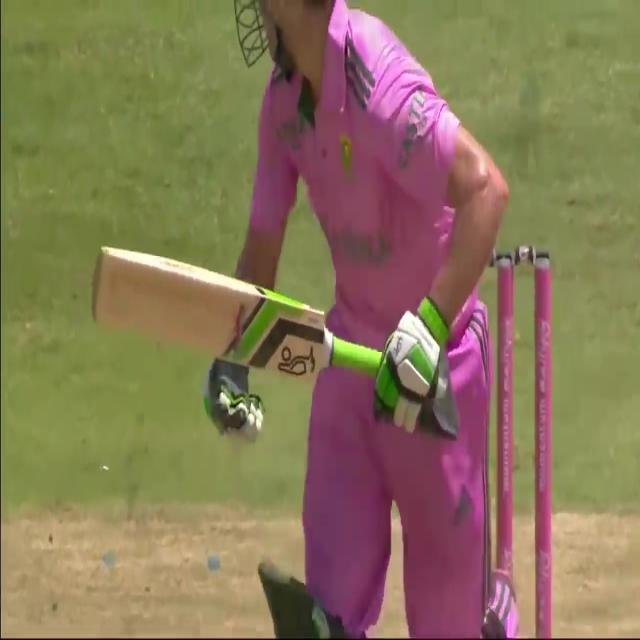Ball: (202, 0, 534, 640)
